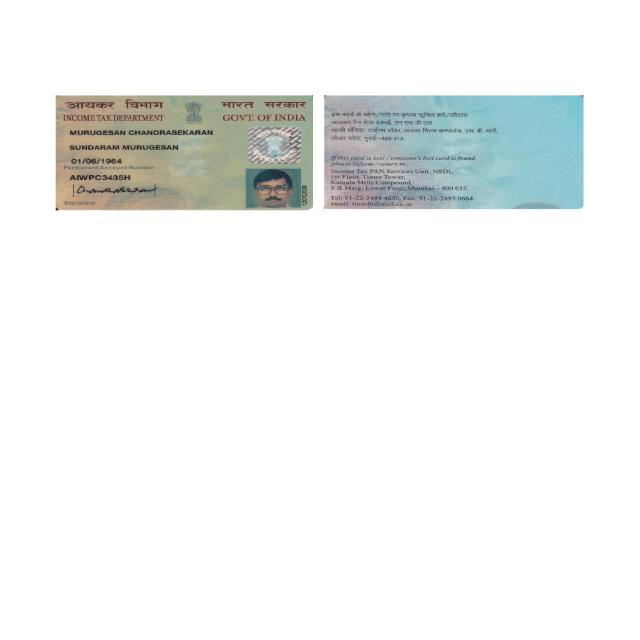pan_card: (52, 95, 312, 209), (324, 95, 584, 207)
